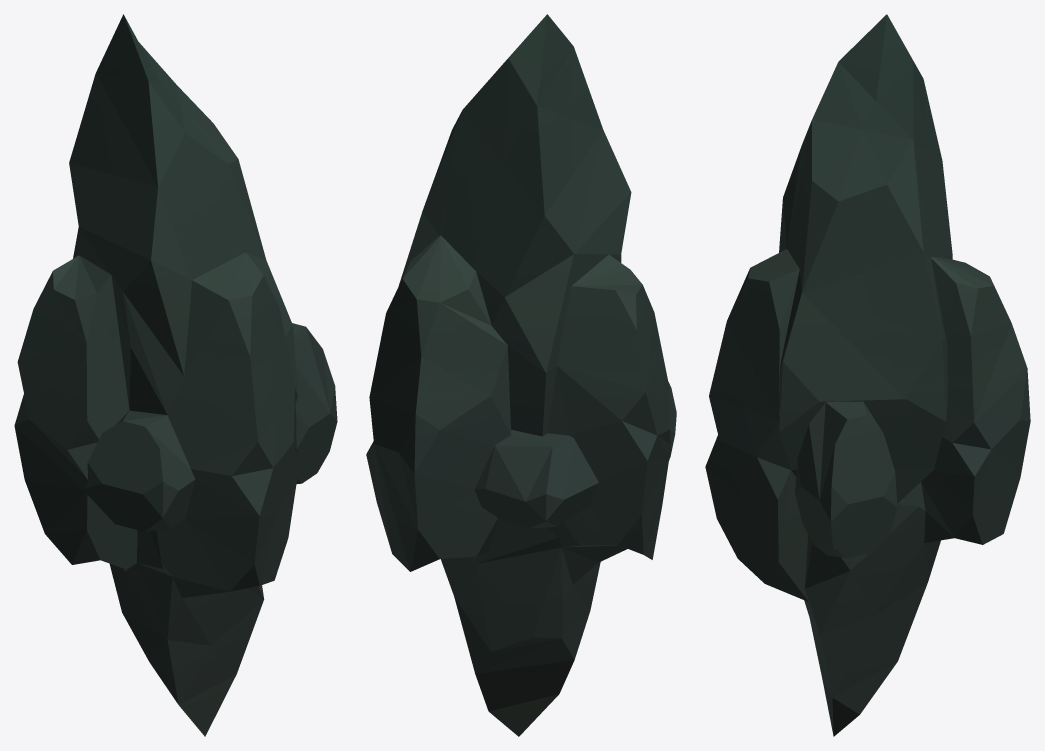
File: SM_Rock_05.fbx
The picture shows the model from 3 angles, left to right: view 1: azimuth 30°, elevation 25°; view 2: azimuth 150°, elevation 25°; view 3: azimuth 270°, elevation 25°; orthographic projection. The views are drawn at different scales.
Parts seen in each view (by area): view 1: SM_Rock_05; view 2: SM_Rock_05; view 3: SM_Rock_05.
Boxes of the visible parts, x1,y1,x2,y2 form: SM_Rock_05: [14, 14, 337, 736]; SM_Rock_05: [366, 14, 676, 736]; SM_Rock_05: [705, 14, 1030, 736].
Bounding box in the file's own units: 517 × 1232 × 521.
Materials: 1 (1 with a texture image).
